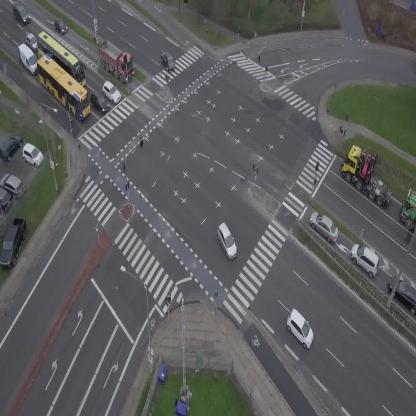bus: (29, 51, 100, 122), (28, 29, 95, 90)
car: (280, 307, 322, 350), (344, 240, 386, 279), (305, 208, 344, 245), (210, 221, 243, 261), (86, 88, 112, 116), (98, 79, 124, 105), (49, 15, 70, 37), (158, 50, 178, 71), (26, 33, 35, 51)
lorry: (333, 141, 409, 210), (88, 35, 142, 86), (12, 41, 43, 77), (401, 191, 416, 231)
